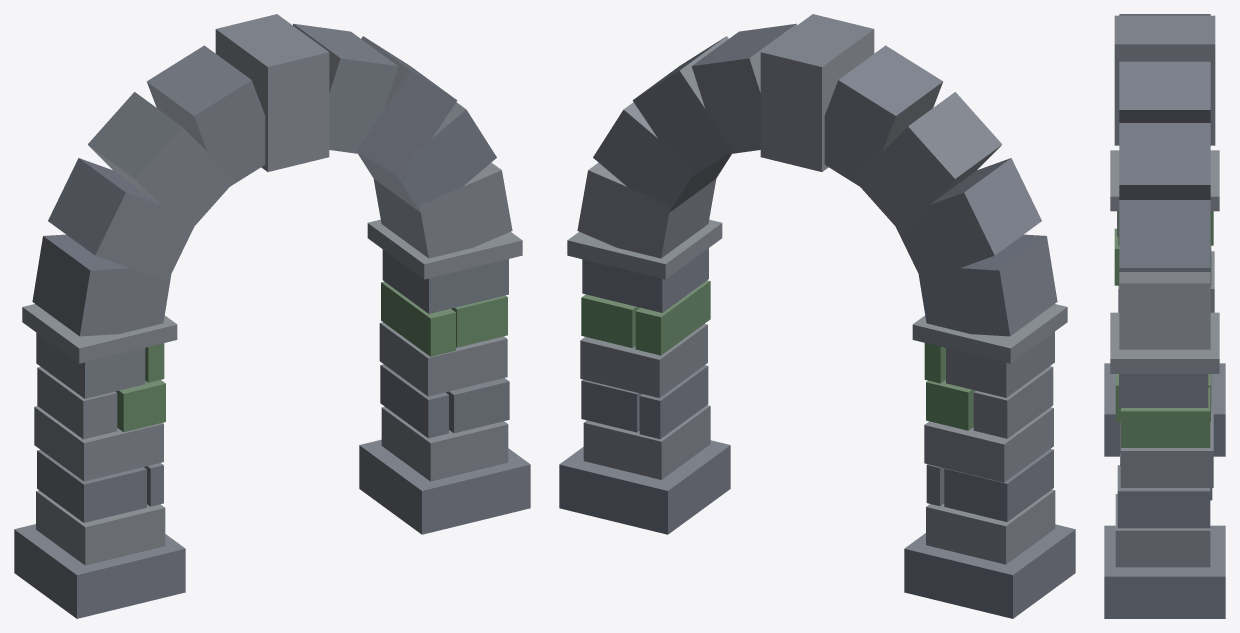
The model's file is arch.glb.
3 renders of one model, left to right at view 1: azimuth 30°, elevation 25°; view 2: azimuth 150°, elevation 25°; view 3: azimuth 270°, elevation 25°, orthographic. The views are drawn at different scales.
Parts seen in each view (by area): view 1: arch; view 2: arch; view 3: arch.
Boxes of the visible parts, x1,y1,x2,y2 form: arch: [14, 14, 530, 618]; arch: [559, 14, 1075, 618]; arch: [1104, 14, 1225, 618].
Size of the model in its own units: 4.34 by 4.57 by 1.04.
